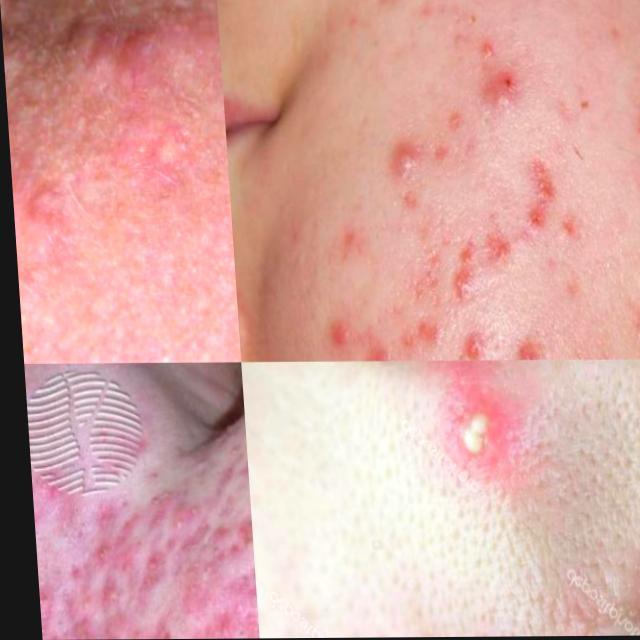6: (2, 32, 22, 81)
8: (75, 581, 220, 640), (483, 61, 528, 115), (319, 299, 350, 359), (498, 329, 545, 361), (456, 316, 482, 354), (360, 344, 383, 362)
9: (370, 126, 442, 189), (95, 572, 115, 608)
blackheads: (418, 381, 531, 497), (515, 158, 562, 238), (401, 238, 437, 298), (622, 98, 640, 162), (366, 0, 410, 19)
pustules: (159, 486, 195, 530), (87, 40, 123, 82), (54, 8, 85, 48)
